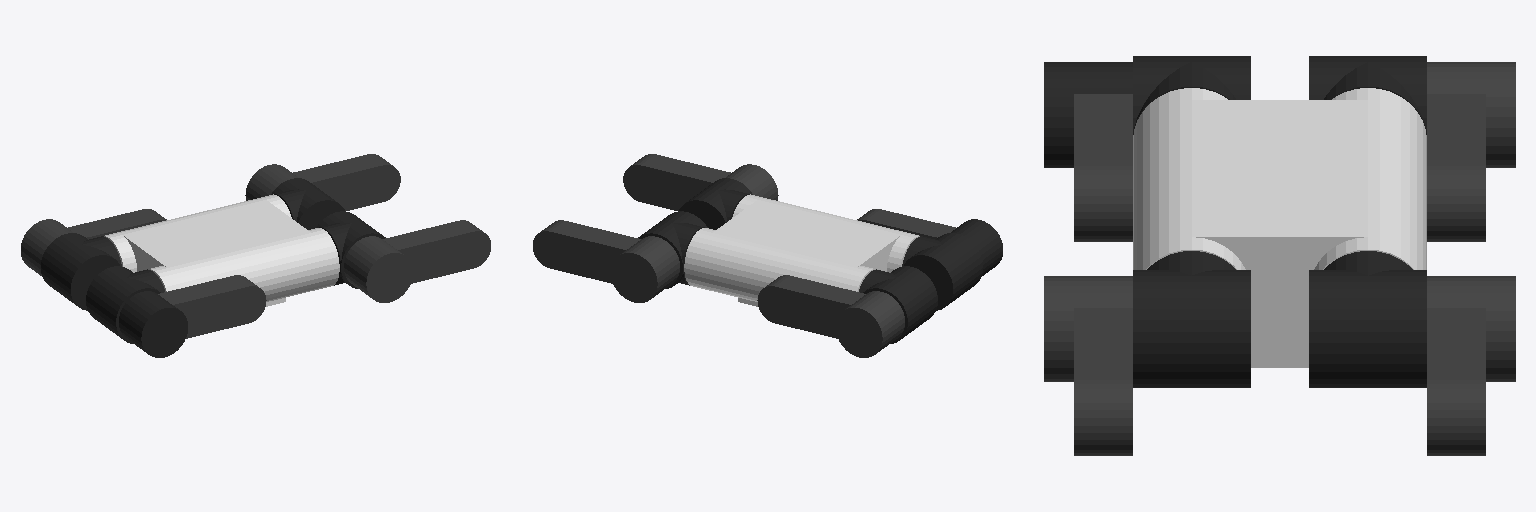
--- Facts derived from the render (not from the file) ---
3 views of the same robot in one strip: view 1: azimuth 30°, elevation 25°; view 2: azimuth 150°, elevation 25°; view 3: azimuth 270°, elevation 25° (orthographic).
Model felin with 17 links and 16 joints (12 revolute, 4 fixed), rooted at body-base, posed every joint at zero.
Links seen in each view (by area): view 1: body-base, RR-femur, FR-femur, FL-femur, RL-pod, RR-pod, RL-femur, FL-pod, FR-pod; view 2: body-base, RL-femur, FL-femur, FR-femur, RR-pod, RL-pod, RR-femur, FR-pod, FL-pod; view 3: body-base, FR-pod, FL-pod, FR-femur, RR-femur, FL-femur, RL-femur, RR-pod, RL-pod.
Link boxes in pixels (x1,y1,x2,y2): body-base: [104, 194, 339, 306]; RR-femur: [119, 275, 266, 357]; FR-femur: [344, 220, 490, 302]; FL-femur: [245, 154, 400, 210]; RL-pod: [41, 233, 121, 310]; RR-pod: [86, 266, 164, 343]; RL-femur: [21, 209, 166, 275]; FL-pod: [271, 178, 344, 229]; FR-pod: [316, 211, 385, 288]; body-base: [684, 194, 919, 306]; RL-femur: [757, 275, 904, 357]; FL-femur: [533, 220, 679, 302]; FR-femur: [623, 154, 778, 210]; RR-pod: [902, 233, 982, 310]; RL-pod: [859, 266, 937, 343]; RR-femur: [857, 209, 1002, 275]; FR-pod: [679, 178, 752, 229]; FL-pod: [638, 211, 707, 288]; body-base: [1133, 88, 1426, 367]; FR-pod: [1133, 251, 1250, 387]; FL-pod: [1309, 251, 1426, 387]; FR-femur: [1044, 276, 1132, 455]; RR-femur: [1044, 62, 1132, 241]; FL-femur: [1427, 276, 1515, 455]; RL-femur: [1427, 62, 1515, 241]; RR-pod: [1133, 56, 1250, 134]; RL-pod: [1309, 56, 1426, 134].
Bounding box of the posed robot: 0.551 × 0.32 × 0.108 m (x, y, z).
Geometry: primitives only (box / cylinder / sphere), no mesh files.

URDF robot description (felin):
<?xml version="1.0"?>

<!-- 
    ############################################
    ######              MEMO              ######
    ############################################
    x = front
    y = left
    z = up
    
    Origin is placed at geometry center of the body 

    https://mymodelrobot.appspot.com/[number redacted]
-->

<robot name="felin">


    <material name="white">
        <color rgba="0.9 0.9 0.9 1.0"/>
    </material>
    <material name="black">
        <color rgba="0.2 0.2 0.2 1.0"/>
    </material>
    <material name="dark_grey">
        <color rgba="0.3 0.3 0.3 1.0"/>
    </material>    
    <material name="grey">
        <color rgba="0.6 0.6 0.6 1.0"/>
    </material>

    <!-- 
    ############################################
    ######              BODY              ######
    ############################################
    -->
    <!--
    ********************************************
    ******              PARTS             ******
    ********************************************
    -->
    <link name="body-base">
        <!--body-base-case-->
        <visual>
            <geometry>
                <box size="0.220 0.120 0.080"/>
            </geometry>
            <origin rpy="0 0 0" xyz="0 0 0"/>
            <material name="white"/>          
        </visual>
        <collision>
            <geometry>
                <box size="0.220 0.120 0.080"/>
            </geometry>
            <origin rpy="0 0 0" xyz="0 0 0"/>
        </collision>
        
        <!--body-base-right-cylinder-->
        <visual>
            <geometry>
                <cylinder length="0.260" radius="0.040"/> 
            </geometry>
            <origin rpy="0 1.57079 0" xyz="0.0 -0.06 0"/>
            <material name="white"/>                          
        </visual>
        <collision>
            <geometry>
                <cylinder length="0.260" radius="0.040"/> 
            </geometry>
            <origin rpy="0 1.57079 0" xyz="0.0 -0.06 0"/>
        </collision>

        <!--body-base-left-cylinder-->
        <visual>
            <geometry>
                <cylinder length="0.260" radius="0.040"/> 
            </geometry>
            <origin rpy="0 1.57079 0" xyz="0.0 0.06 0"/>
            <material name="white"/>                          
        </visual>
        <collision>
            <geometry>
                <cylinder length="0.260" radius="0.040"/> 
            </geometry>
            <origin rpy="0 1.57079 0" xyz="0.0 0.06 0"/>
        </collision>

        <!--body-battery-holder-->
        <visual>
            <geometry>
                <box size="0.178 0.060 0.028"/>
            </geometry>
            <origin rpy="0 0 0" xyz="0.0 0.0 -0.054"/>
            <material name="white"/>                          
        </visual>
        <collision>
            <geometry>
                <box size="0.178 0.060 0.028"/>
            </geometry>
            <origin rpy="0 0 0" xyz="0.0 0.0 -0.054"/>
        </collision>

        <inertial>
            <origin rpy="0 0 0" xyz="0.050 0 0"/>
            <mass value="2.6"/> <!--3-->
            <inertia ixx="0.02" ixy="0.0" ixz="0.0" iyy="0.03" iyz="0.0" izz="0.03"/>
        </inertial>
    </link>
        
    <!-- 
    ############################################
    ######              LEG Front Right   ######
    ############################################
    -->
    <!--
    ********************************************
    ******              PARTS             ******
    ********************************************
    -->
    <link name="FR-pod">
        <visual>
            <geometry>
                <cylinder length="0.080" radius="0.040"/>
            </geometry>
            <origin rpy="1.57079 0 0" xyz="0 0 0"/>
            <material name="black"/>
        </visual>
        <visual>
            <geometry>
                <cylinder length="0.040" radius="0.040"/>
            </geometry>
            <origin rpy="0.0 0 0" xyz="0.0 0 0.02"/>
            <material name="black"/>                          
        </visual>
        <collision>
            <geometry>
                <cylinder length="0.080" radius="0.040"/>
            </geometry>
            <origin rpy="1.57079 0 0" xyz="0 0 0"/>
        </collision>
        <inertial>
            <mass value="0.4"/>
            <inertia ixx="0.0003" ixy="0.0" ixz="0.0" iyy="0.0008" iyz="0.0" izz="0.0008"/>
        </inertial>        
    </link>
    
    <link name="FR-femur">
        <visual>
            <geometry>
                <cylinder radius="0.036" length="0.060"/>
            </geometry>
            <origin rpy="0.0 0.0 0.0" xyz="0.0 0.0 -0.01"/>
            <material name="dark_grey"/>          
        </visual>
        <visual>
            <geometry>
                <box size="0.140 0.054 0.040"/>
            </geometry>
            <origin rpy="0 0 0" xyz="0.07 0 0"/>
            <material name="dark_grey"/>
        </visual>
        <visual>
            <geometry>
                <cylinder radius="0.027" length="0.040"/>
            </geometry>
            <origin rpy="0.0 0.0 0.0" xyz="0.14 0.0 0.0"/>
            <material name="dark_grey"/>
        </visual>

        <collision>
            <geometry>
                <cylinder radius="0.036" length="0.060"/>
            </geometry>
            <origin rpy="0.0 0.0 0.0" xyz="0.0 0.0 -0.01"/>
        </collision>
        <collision>
            <geometry>
                <box size="0.140 0.054 0.040"/>
            </geometry>
            <origin rpy="0 0 0" xyz="0.07 0 0"/>          
        </collision>
        <collision>
            <geometry>
                <cylinder radius="0.027" length="0.040"/>
            </geometry>
            <origin rpy="0.0 0.0 0.0" xyz="0.14 0.0 0.0"/>        
        </collision>

        <inertial>
          <mass value="0.5"/>
          <inertia ixx="0.0001" ixy="0.0" ixz="0.0" iyy="0.0001" iyz="0.0" izz="0.0001"/>
        </inertial>      
    </link>
    
    <link name="FR-tibia">
        <visual>
            <geometry>
                <box size="0.150 0.020 0.025"/>
            </geometry>
            <origin rpy="0 0 0" xyz="0.075 0 0"/>
            <material name="grey"/>  
        </visual>
        <collision>
            <geometry>
                <box size="0.150 0.020 0.025"/>
            </geometry>
            <origin rpy="0 0 0" xyz="0.075 0 0"/>
        </collision>
        <inertial>
          <mass value="0.1"/>
          <inertia ixx="0.0001" ixy="0.0" ixz="0.0" iyy="0.0001" iyz="0.0" izz="0.0001"/>
        </inertial>      
    </link>

    <link name="FR-foot">
        <visual>
            <geometry>
                <sphere radius="0.022"/>
            </geometry>
            <material name="black"/>     
        </visual>
        <collision>
            <geometry>
                <sphere radius="0.022"/>
            </geometry>
        </collision>
        <contact>
            <stiffness value="10000"/>
            <damping value="1000"/>
            <lateral_friction value="1"/>
        </contact>   
        <inertial>
          <mass value="0.05"/>
          <inertia ixx="0.0001" ixy="0.0" ixz="0.0" iyy="0.0001" iyz="0.0" izz="0.0001"/>
        </inertial>           
    </link>
    
    <!--
    ********************************************
    ******             JOINTS             ******
    ********************************************
    -->
    <joint name="FR-ABD" type="revolute">
        <parent link="body-base"/>
        <child link="FR-pod"/>
        <origin rpy="0 -1.57079 0" xyz="0.172 -0.060 0"/>
        <axis xyz="0 0 1"/>
        <limit lower="-0.4" upper="0.4" effort="100" velocity="1000"/>      
    </joint>
    
    <joint name="FR-HIPS" type="revolute">
        <parent link="FR-pod"/>
        <child link="FR-femur"/>
        <!--<origin rpy="-1.57079 0 1.57079" xyz="0.0 -0.06 0.0"/> --><!-- abduction along y -->
        <origin rpy="-1.57079 1.57079 0" xyz="0.0 -0.06 0.0"/>
        <axis xyz="0 0 1"/>
        <limit lower="0.0" upper="3.4" effort="100" velocity="1000"/>
    </joint>
    
    <joint name="FR-KNEE" type="revolute">
        <parent link="FR-femur"/>
        <child link="FR-tibia"/>
        <origin rpy="0 0 -3.14159" xyz="0.140 0.0 0"/>
        <axis xyz="0 0 1"/>
        <limit lower="0.0" upper="3.1" effort="100" velocity="1000"/>
    </joint>
    
    <joint name="FR-FOOT" type="fixed">
        <parent link="FR-tibia"/>
        <child link="FR-foot"/>
        <origin rpy="0 0 0" xyz="0.150 0.0 -0.0"/>
    </joint>

    <!-- 
    ############################################
    ######              LEG Rear Right   ######
    ############################################
    -->
    <!--
    ********************************************
    ******              PARTS             ******
    ********************************************
    -->
    <link name="RR-pod">
        <visual>
            <geometry>
                <cylinder length="0.080" radius="0.040"/>
            </geometry>
            <origin rpy="1.57079 0 0" xyz="0 0 0"/>
            <material name="black"/>
        </visual>
        <visual>
            <geometry>
                <cylinder length="0.040" radius="0.040"/>
            </geometry>
            <origin rpy="0.0 0 0" xyz="0.0 0 -0.02"/>
            <material name="black"/>
        </visual>
        <collision>
            <geometry>
                <cylinder length="0.080" radius="0.040"/>
            </geometry>
            <origin rpy="1.57079 0 0" xyz="0 0 0"/>
        </collision>
        <inertial>
            <mass value="0.4"/>
            <inertia ixx="0.0003" ixy="0.0" ixz="0.0" iyy="0.0008" iyz="0.0" izz="0.0008"/>
        </inertial>           
    </link>
    

    <link name="RR-femur">
        <visual>
            <geometry>
                <cylinder radius="0.036" length="0.060"/>
            </geometry>
            <origin rpy="0.0 0.0 0.0" xyz="0.0 0.0 -0.01"/>
            <material name="dark_grey">
                <color rgba="0.2 0.2 0.2 1.0"/>
           </material>            
        </visual>
        <visual>
            <geometry>
                <box size="0.140 0.054 0.040"/>
            </geometry>
            <origin rpy="0 0 0" xyz="0.07 0 0"/>
            <material name="dark_grey"/>       
        </visual>
        <visual>
            <geometry>
                <cylinder radius="0.027" length="0.040"/>
            </geometry>
            <origin rpy="0.0 0.0 0.0" xyz="0.14 0.0 0.0"/>
            <material name="dark_grey"/>      
        </visual>

        <collision>
            <geometry>
                <cylinder radius="0.036" length="0.060"/>
            </geometry>
            <origin rpy="0.0 0.0 0.0" xyz="0.0 0.0 -0.01"/>
        </collision>
        <collision>
            <geometry>
                <box size="0.140 0.054 0.040"/>
            </geometry>
            <origin rpy="0 0 0" xyz="0.07 0 0"/>          
        </collision>
        <collision>
            <geometry>
                <cylinder radius="0.027" length="0.040"/>
            </geometry>
            <origin rpy="0.0 0.0 0.0" xyz="0.14 0.0 0.0"/>        
        </collision>

        <inertial>
          <mass value="0.5"/>
          <inertia ixx="0.0001" ixy="0.0" ixz="0.0" iyy="0.0001" iyz="0.0" izz="0.0001"/>
        </inertial>      
    </link>
    

    <link name="RR-tibia">
        <visual>
            <geometry>
                <box size="0.150 0.020 0.025"/>
            </geometry>
            <origin rpy="0 0 0" xyz="0.075 0 0"/>
            <material name="grey"/>     
        </visual>
        <collision>
            <geometry>
                <box size="0.150 0.020 0.025"/>
            </geometry>
            <origin rpy="0 0 0" xyz="0.075 0 0"/>
        </collision>
        <inertial>
          <mass value="0.1"/>
          <inertia ixx="0.0001" ixy="0.0" ixz="0.0" iyy="0.0001" iyz="0.0" izz="0.0001"/>
        </inertial>      
    </link>

    <link name="RR-foot">
        <visual>
            <geometry>
                <sphere radius="0.022"/>
            </geometry>
            <material name="black"/>          
        </visual>
        <collision>
            <geometry>
                <sphere radius="0.022"/>
            </geometry>
        </collision>
        <contact>
            <stiffness value="10000"/>
            <damping value="1000"/>
            <lateral_friction value="1"/>
        </contact>   
        <inertial>
          <mass value="0.05"/>
          <inertia ixx="0.0001" ixy="0.0" ixz="0.0" iyy="0.0001" iyz="0.0" izz="0.0001"/>
        </inertial>           
    </link>    
    
    <!--
    ********************************************
    ******             JOINTS             ******
    ********************************************
    -->
    <joint name="RR-ABD" type="revolute">
        <parent link="body-base"/>
        <child link="RR-pod"/>
        <origin rpy="0 -1.57079 0" xyz="-0.172 -0.060 0"/>
        <axis xyz="0 0 1"/>
        <limit lower="-0.4" upper="0.4" effort="100" velocity="1000"/> 
    </joint>
    
    <joint name="RR-HIPS" type="revolute">
        <parent link="RR-pod"/>
        <child link="RR-femur"/>
        <!--<origin rpy="-1.57079 0 1.57079" xyz="0.0 -0.06 0.0"/> --><!-- abduction along y -->
        <origin rpy="-1.57079 1.57079 0" xyz="0.0 -0.06 0.0"/>
        <axis xyz="0 0 1"/>
        <limit lower="0.0" upper="3.4" effort="100" velocity="1000"/>
    </joint>
    
    <joint name="RR-KNEE" type="revolute">
        <parent link="RR-femur"/>
        <child link="RR-tibia"/>
        <origin rpy="0 0 -3.14159" xyz="0.140 0.0 0"/>
        <axis xyz="0 0 1"/>
        <limit lower="0.0" upper="3.1" effort="100" velocity="1000"/>
    </joint>
    
    <joint name="RR-FOOT" type="fixed">
        <parent link="RR-tibia"/>
        <child link="RR-foot"/>
        <origin rpy="0 0 0" xyz="0.150 0.0 -0.0"/>
    </joint>


    <!-- 
    ############################################
    ######              LEG Front Left   ######
    ############################################
    -->
    <!--
    ********************************************
    ******              PARTS             ******
    ********************************************
    -->
    <link name="FL-pod">
        <visual>
            <geometry>
                <cylinder length="0.080" radius="0.040"/>
            </geometry>
            <origin rpy="1.57079 0 0" xyz="0 0 0"/>
            <material name="black"/>
        </visual>
        <visual>
            <geometry>
                <cylinder length="0.040" radius="0.040"/>
            </geometry>
            <origin rpy="0.0 0 0" xyz="0 0 0.02"/>
            <material name="black"/>
        </visual>
        <collision>
            <geometry>
                <cylinder length="0.080" radius="0.040"/>
            </geometry>
            <origin rpy="1.57079 0 0" xyz="0 0 0"/>
        </collision>
        <inertial>
            <mass value="0.4"/>
            <inertia ixx="0.0003" ixy="0.0" ixz="0.0" iyy="0.0008" iyz="0.0" izz="0.0008"/>
        </inertial>        
    </link>
    
    <link name="FL-femur">
        <visual>
            <geometry>
                <cylinder radius="0.036" length="0.060"/>
            </geometry>
            <origin rpy="0.0 0.0 0.0" xyz="0.0 0.0 0.01"/>
            <material name="dark_grey"/>      
        </visual>
        <visual>
            <geometry>
                <box size="0.140 0.054 0.040"/>
            </geometry>
            <origin rpy="0 0 0" xyz="0.07 0 0"/>
            <material name="dark_grey"/>          
        </visual>
        <visual>
            <geometry>
                <cylinder radius="0.027" length="0.040"/>
            </geometry>
            <origin rpy="0.0 0.0 0.0" xyz="0.14 0.0 0.0"/>
            <material name="dark_grey"/>      
        </visual>

        <collision>
            <geometry>
                <cylinder radius="0.036" length="0.060"/>
            </geometry>
            <origin rpy="0.0 0.0 0.0" xyz="0.0 0.0 0.01"/>
        </collision>
        <collision>
            <geometry>
                <box size="0.140 0.054 0.040"/>
            </geometry>
            <origin rpy="0 0 0" xyz="0.07 0 0"/>          
        </collision>
        <collision>
            <geometry>
                <cylinder radius="0.027" length="0.040"/>
            </geometry>
            <origin rpy="0.0 0.0 0.0" xyz="0.14 0.0 0.0"/>        
        </collision>

        <inertial>
          <mass value="0.5"/>
          <inertia ixx="0.0001" ixy="0.0" ixz="0.0" iyy="0.0001" iyz="0.0" izz="0.0001"/>
        </inertial>      
    </link>
    
    <link name="FL-tibia">
        <visual>
            <geometry>
                <box size="0.150 0.020 0.025"/>
            </geometry>
            <origin rpy="0 0 0" xyz="0.075 0 0"/>
            <material name="grey"/>           
        </visual>
        <collision>
            <geometry>
                <box size="0.150 0.020 0.025"/>
            </geometry>
            <origin rpy="0 0 0" xyz="0.075 0 0"/>
        </collision>
        <inertial>
          <mass value="0.1"/>
          <inertia ixx="0.0001" ixy="0.0" ixz="0.0" iyy="0.0001" iyz="0.0" izz="0.0001"/>
        </inertial>      
    </link>

    <link name="FL-foot">
        <visual>
            <geometry>
                <sphere radius="0.022"/>
            </geometry>
            <material name="black"/>   
        </visual>
        <collision>
            <geometry>
                <sphere radius="0.022"/>
            </geometry>
        </collision>
        <contact>
            <stiffness value="10000"/>
            <damping value="1000"/>
            <lateral_friction value="1"/>
        </contact>   
        <inertial>
          <mass value="0.05"/>
          <inertia ixx="0.0001" ixy="0.0" ixz="0.0" iyy="0.0001" iyz="0.0" izz="0.0001"/>
        </inertial>           
    </link>
    
    <!--
    ********************************************
    ******             JOINTS             ******
    ********************************************
    -->
    <joint name="FL-ABD" type="revolute">
        <parent link="body-base"/>
        <child link="FL-pod"/>
        <origin rpy="0 -1.57079 0" xyz="0.172 0.060 0"/>
        <axis xyz="0 0 1"/>
        <limit lower="-0.4" upper="0.4" effort="100" velocity="1000"/>      
    </joint>
    
    <joint name="FL-HIPS" type="revolute">
        <parent link="FL-pod"/>
        <child link="FL-femur"/>
        <!--<origin rpy="-1.57079 0 1.57079" xyz="0.0 -0.06 0.0"/> --><!-- abduction along y -->
        <origin rpy="-1.57079 1.57079 0" xyz="0.0 0.06 0.0"/>        
        <axis xyz="0 0 1"/>
        <limit lower="0.0" upper="3.4" effort="100" velocity="1000"/>
    </joint>
    
    <joint name="FL-KNEE" type="revolute">
        <parent link="FL-femur"/>
        <child link="FL-tibia"/>
        <origin rpy="0 0 -3.14159" xyz="0.140 0.0 0"/>
        <axis xyz="0 0 1"/>
        <limit lower="0.0" upper="3.1" effort="100" velocity="1000"/>
    </joint>
    
    <joint name="FL-FOOT" type="fixed">
        <parent link="FL-tibia"/>
        <child link="FL-foot"/>
        <origin rpy="0 0 0" xyz="0.150 0.0 -0.0"/>
    </joint>


    <!-- 
    ############################################
    ######              Leg Rear Left    ######
    ############################################
    -->
    <!--
    ********************************************
    ******              PARTS             ******
    ********************************************
    -->
    <link name="RL-pod">
        <visual>
            <geometry>
                <cylinder length="0.080" radius="0.040"/>
            </geometry>
            <origin rpy="1.57079 0 0" xyz="0 0 0"/>
            <material name="black"/>
        </visual>
        <visual>
            <geometry>
                <cylinder length="0.040" radius="0.040"/>
            </geometry>
            <origin rpy="0.0 0 0" xyz="0.0 0 -0.02"/>
            <material name="black"/>
        </visual>
        <collision>
            <geometry>
                <cylinder length="0.080" radius="0.040"/>
            </geometry>
            <origin rpy="1.57079 0 0" xyz="0 0 0"/>
        </collision>
        <inertial>
            <mass value="0.4"/>
            <inertia ixx="0.0003" ixy="0.0" ixz="0.0" iyy="0.0008" iyz="0.0" izz="0.0008"/>
        </inertial>        
    </link>
    
    <link name="RL-femur">
        <visual>
            <geometry>
                <cylinder radius="0.036" length="0.060"/>
            </geometry>
            <origin rpy="0.0 0.0 0.0" xyz="0.0 0.0 0.01"/>
           <material name="dark_grey"/>     
        </visual>
        <visual>
            <geometry>
                <box size="0.140 0.054 0.040"/>
            </geometry>
            <origin rpy="0 0 0" xyz="0.07 0 0"/>
            <material name="dark_grey"/>          
        </visual>
        <visual>
            <geometry>
                <cylinder radius="0.027" length="0.040"/>
            </geometry>
            <origin rpy="0.0 0.0 0.0" xyz="0.14 0.0 0.0"/>
            <material name="dark_grey"/>       
        </visual>

        <collision>
            <geometry>
                <cylinder radius="0.036" length="0.060"/>
            </geometry>
            <origin rpy="0.0 0.0 0.0" xyz="0.0 0.0 0.01"/>
        </collision>
        <collision>
            <geometry>
                <box size="0.140 0.054 0.040"/>
            </geometry>
            <origin rpy="0 0 0" xyz="0.07 0 0"/>          
        </collision>
        <collision>
            <geometry>
                <cylinder radius="0.027" length="0.040"/>
            </geometry>
            <origin rpy="0.0 0.0 0.0" xyz="0.14 0.0 0.0"/>        
        </collision>

        <inertial>
          <mass value="0.5"/>
          <inertia ixx="0.0001" ixy="0.0" ixz="0.0" iyy="0.0001" iyz="0.0" izz="0.0001"/>
        </inertial>      
    </link>
    
    <link name="RL-tibia">
        <visual>
            <geometry>
                <box size="0.150 0.020 0.025"/>
            </geometry>
            <origin rpy="0 0 0" xyz="0.075 0 0"/>
            <material name="grey"/>         
        </visual>
        <collision>
            <geometry>
                <box size="0.150 0.020 0.025"/>
            </geometry>
            <origin rpy="0 0 0" xyz="0.075 0 0"/>
        </collision>
        <inertial>
          <mass value="0.1"/>
          <inertia ixx="0.0001" ixy="0.0" ixz="0.0" iyy="0.0001" iyz="0.0" izz="0.0001"/>
        </inertial>      
    </link>

    <link name="RL-foot">
        <visual>
            <geometry>
                <sphere radius="0.022"/>
            </geometry>
            <material name="black"/>   
        </visual>
        <collision>
            <geometry>
                <sphere radius="0.022"/>
            </geometry>
        </collision>
        <contact>
            <stiffness value="10000"/>
            <damping value="1000"/>
            <lateral_friction value="1"/>
        </contact>   
        <inertial>
          <mass value="0.05"/>
          <inertia ixx="0.0001" ixy="0.0" ixz="0.0" iyy="0.0001" iyz="0.0" izz="0.0001"/>
        </inertial>           
    </link>
    
    <!--
    ********************************************
    ******             JOINTS             ******
    ********************************************
    -->
    <joint name="RL-ABD" type="revolute">
        <parent link="body-base"/>
        <child link="RL-pod"/>
        <origin rpy="0 -1.57079 0" xyz="-0.172 0.060 0"/>
        <axis xyz="0 0 1"/>
        <limit lower="-0.4" upper="0.4" effort="100" velocity="1000"/>      
    </joint>
    
    <joint name="RL-HIPS" type="revolute">
        <parent link="RL-pod"/>
        <child link="RL-femur"/>
        <!--<origin rpy="-1.57079 0 1.57079" xyz="0.0 -0.06 0.0"/> --><!-- abduction along y -->
        <origin rpy="-1.57079 1.57079 0" xyz="0.0 0.06 0.0"/>       
        <axis xyz="0 0 1"/>
        <limit lower="0.0" upper="3.4" effort="100" velocity="1000"/>
    </joint>
    
    <joint name="RL-KNEE" type="revolute">
        <parent link="RL-femur"/>
        <child link="RL-tibia"/>
        <origin rpy="0 0 -3.14159" xyz="0.140 0.0 0"/>
        <axis xyz="0 0 1"/>
        <limit lower="0.0" upper="3.1" effort="100" velocity="1000"/>
    </joint>
    
    <joint name="RL-FOOT" type="fixed">
        <parent link="RL-tibia"/>
        <child link="RL-foot"/>
        <origin rpy="0 0 0" xyz="0.150 0.0 -0.0"/>
    </joint>




</robot>    
